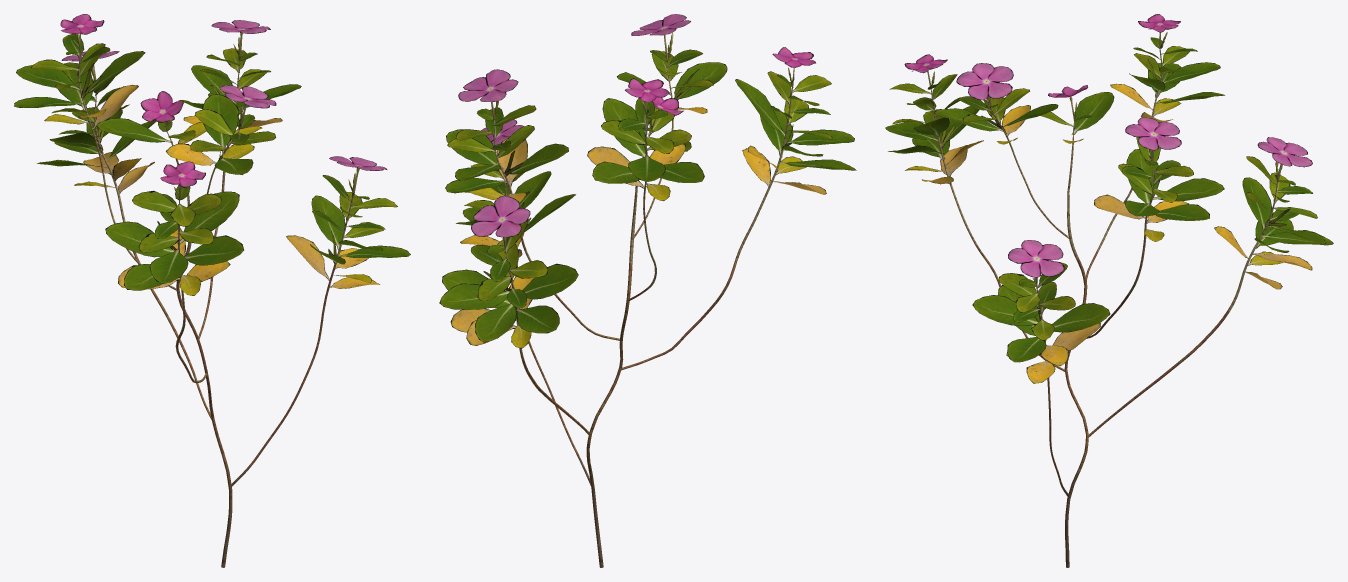
Rendered from periwinkle_plant_06.glb.
3 views of the same model, side by side, from view 1: azimuth 30°, elevation 25°; view 2: azimuth 150°, elevation 25°; view 3: azimuth 270°, elevation 25° (orthographic). The views are drawn at different scales.
Parts seen in each view (by area): view 1: periwinkle_plant; view 2: periwinkle_plant; view 3: periwinkle_plant.
Boxes of the visible parts, <box> form: periwinkle_plant: <box>14,14,410,567</box>; periwinkle_plant: <box>439,14,856,567</box>; periwinkle_plant: <box>885,14,1333,567</box>.
Bounding box in the file's own units: 0.2608 × 0.3972 × 0.3207.
Materials: 1 (1 with a texture image).
